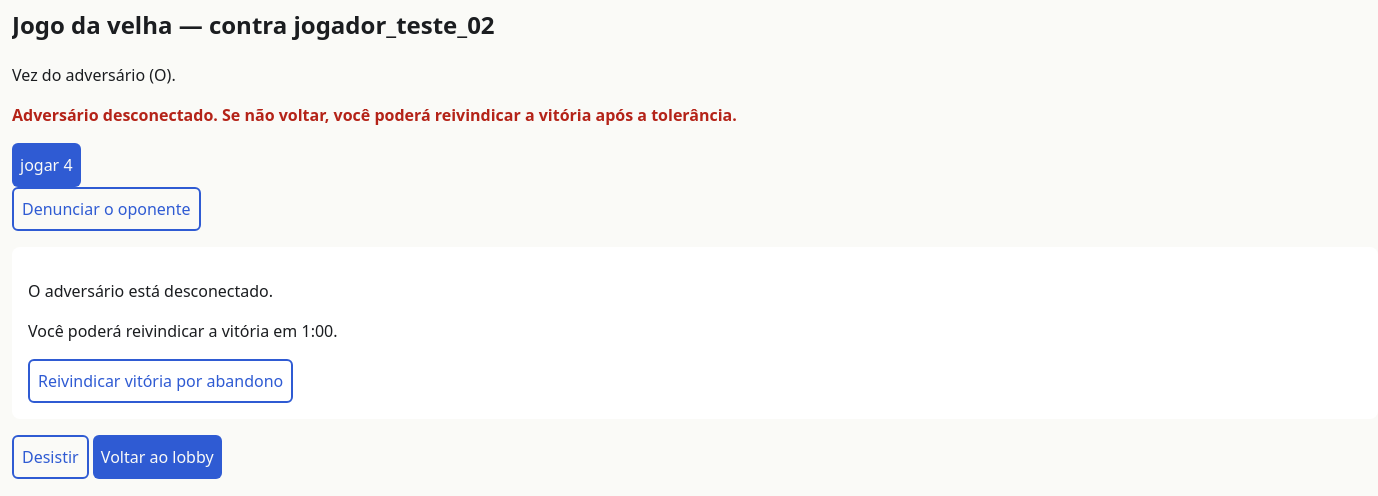
Test: adversário desconectado: aviso, contagem e reivindicação de abandono
Expected: the element with test id "board" is shown, [12,143,80,187]
Expected: the text "Adversário desconectado. Se não voltar" is shown, [12,104,737,126]
What coordinates should you click on to do the following:
click the button "Reivindicar vitória por abandono"
I would click on:
 (161, 381)
Its box is [28,359,293,403].
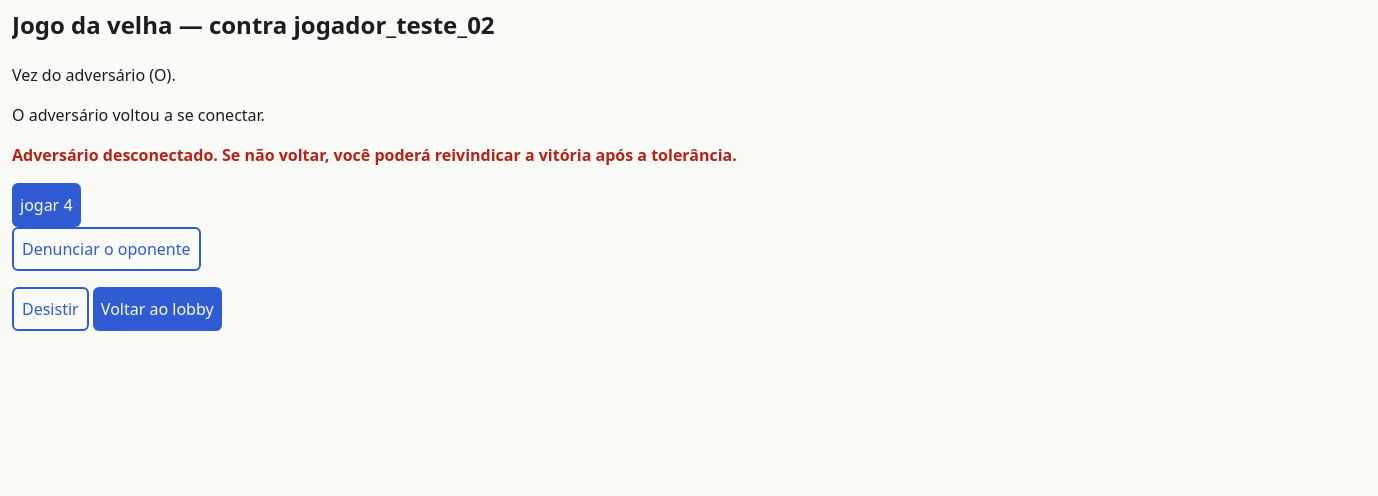
Expected: the text "O adversário voltou a se conectar." is shown, [12,104,265,126]
